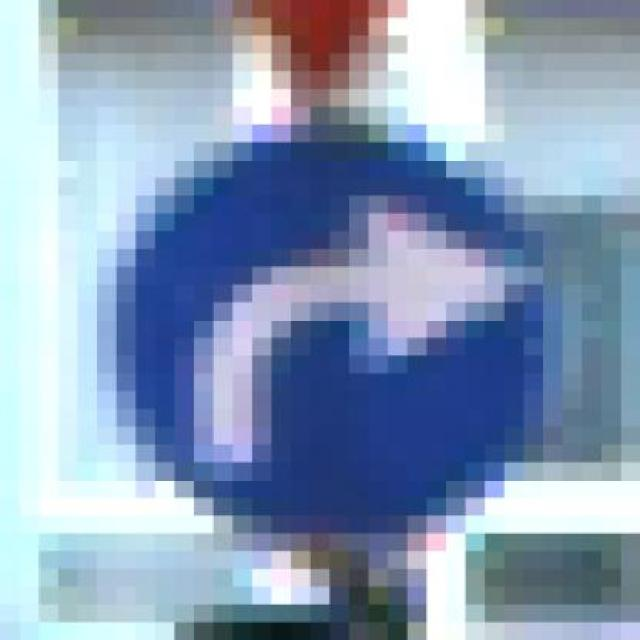Turn right ahead: (58, 107, 582, 551)
